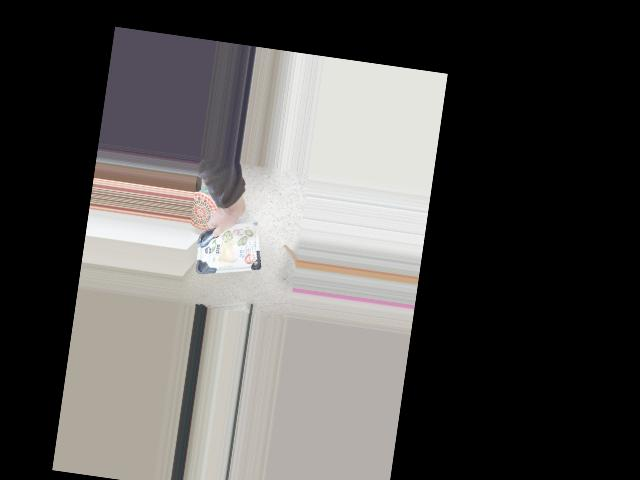cheese: (189, 219, 267, 277)
